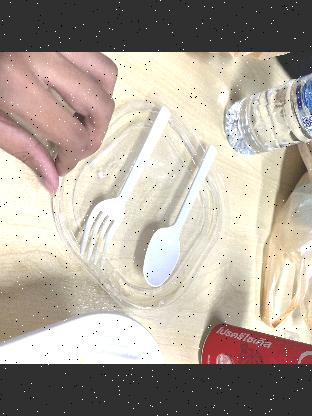Others: (78, 94, 172, 270), (142, 141, 216, 292)
